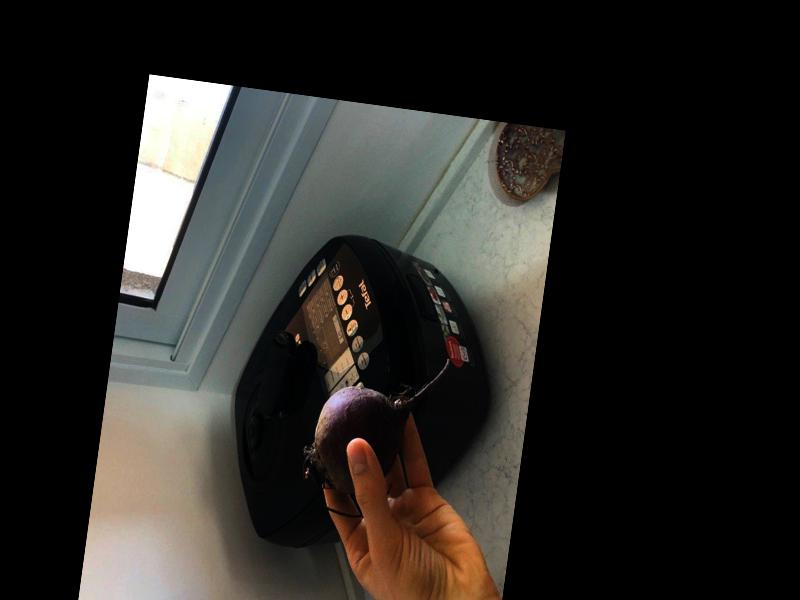Beet: (295, 341, 452, 526)
